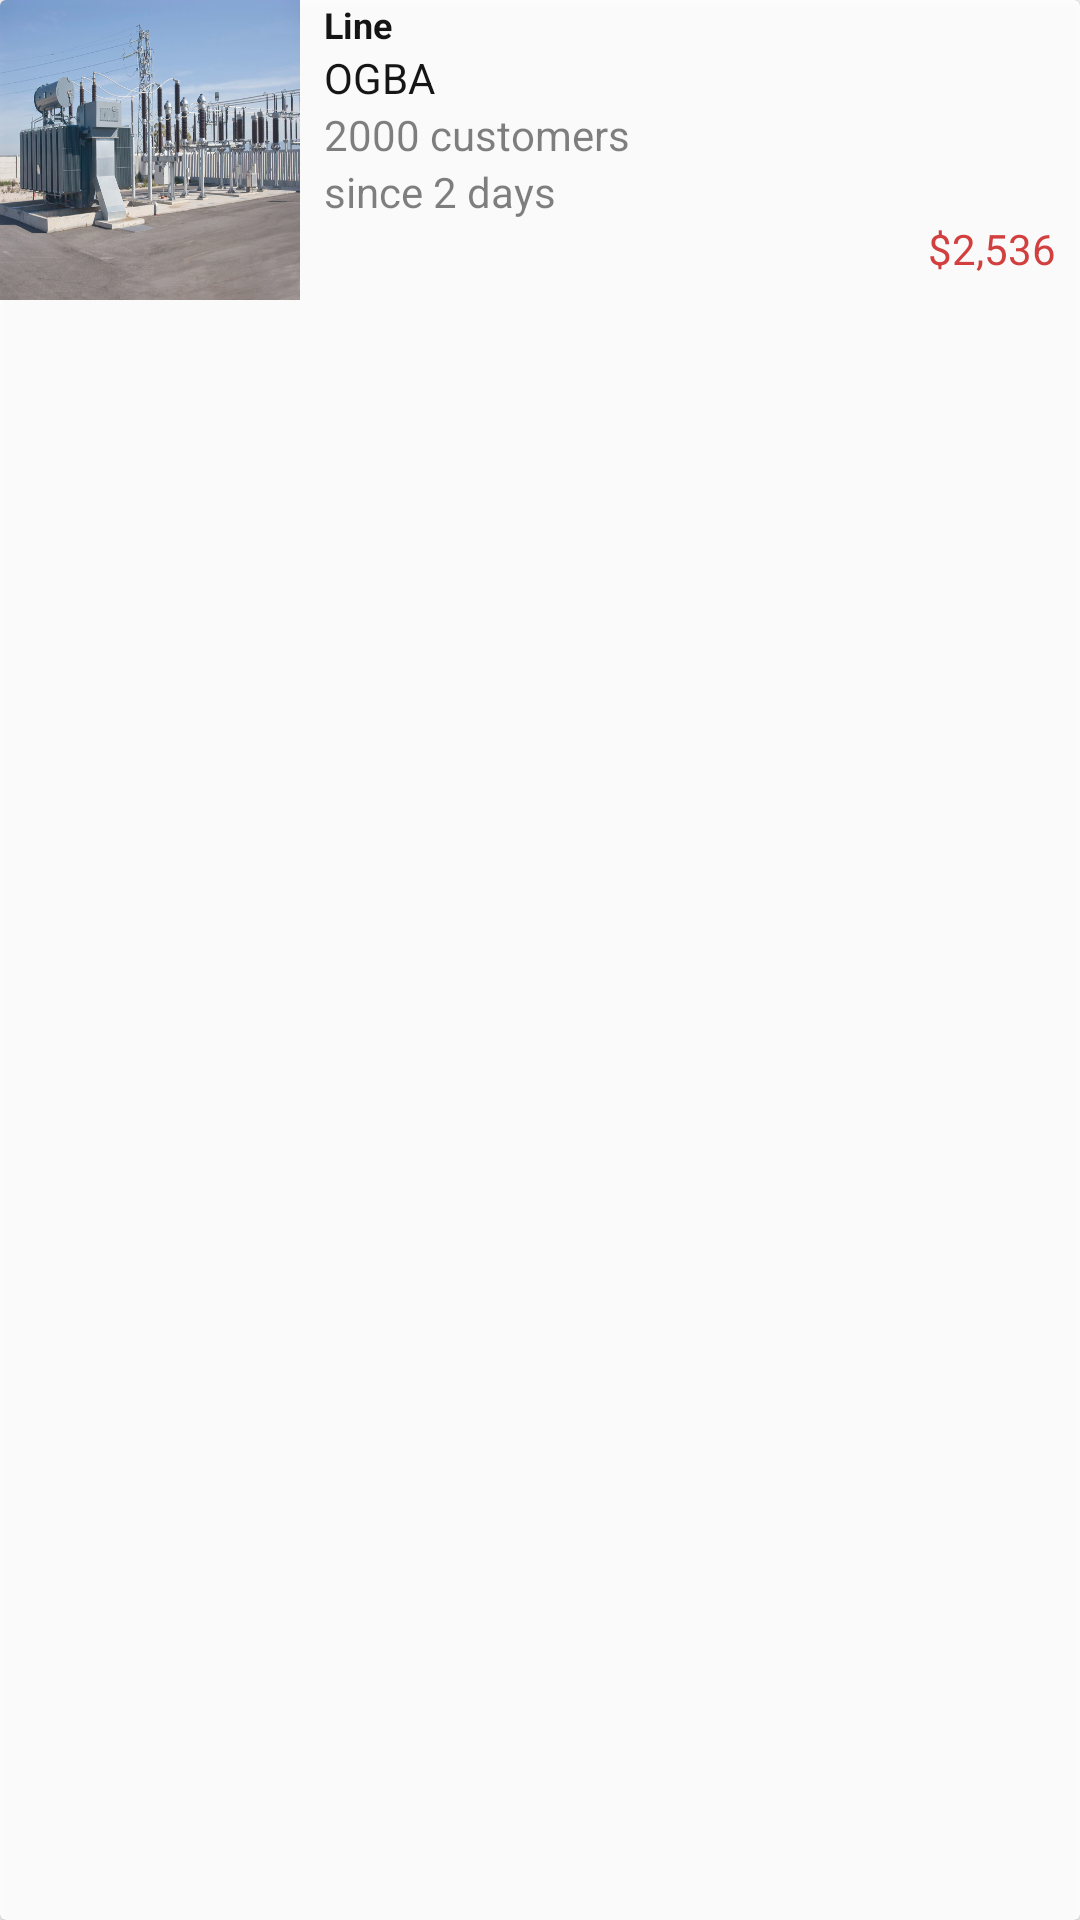

Icons on this 1080w x 1920h Android screen, each with its box as [x1,y1,x2,y2]:
substation: [0,0,300,300]
